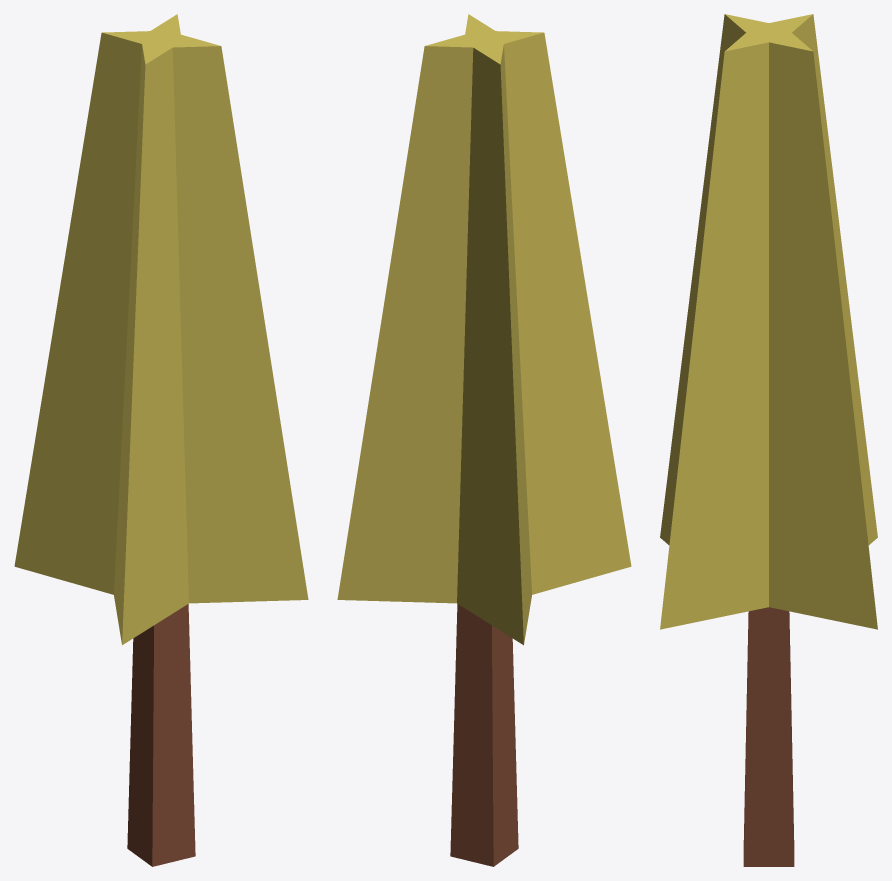
Rendered from Tree_27_autumn_mat.fbx.
The picture shows the model from 3 angles, left to right: view 1: azimuth 30°, elevation 25°; view 2: azimuth 150°, elevation 25°; view 3: azimuth 270°, elevation 25°; orthographic projection.
Parts seen in each view (by area): view 1: Tree_27_autumn_mat; view 2: Tree_27_autumn_mat; view 3: Tree_27_autumn_mat.
Part boxes in pixels (x1,y1,x2,y2): Tree_27_autumn_mat: (14, 14, 308, 866); Tree_27_autumn_mat: (337, 14, 631, 866); Tree_27_autumn_mat: (660, 14, 877, 866).
Size of the model in its own units: 2.53 by 10.54 by 2.53.
